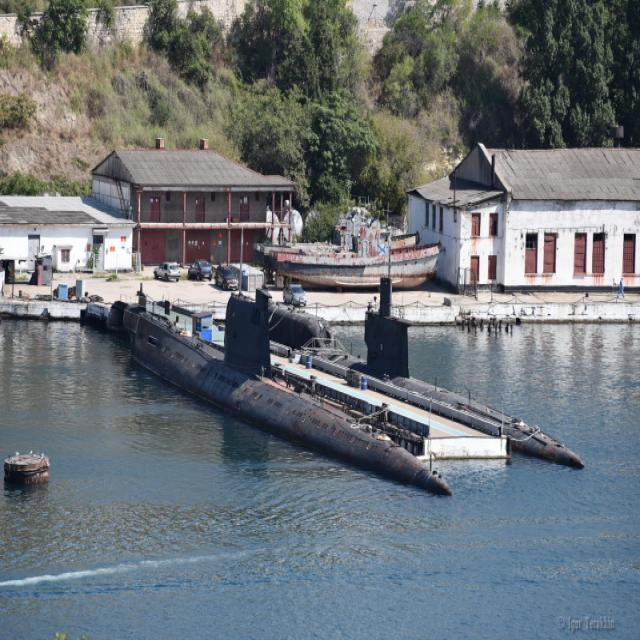submarine: (55, 282, 459, 509), (239, 261, 590, 480)
